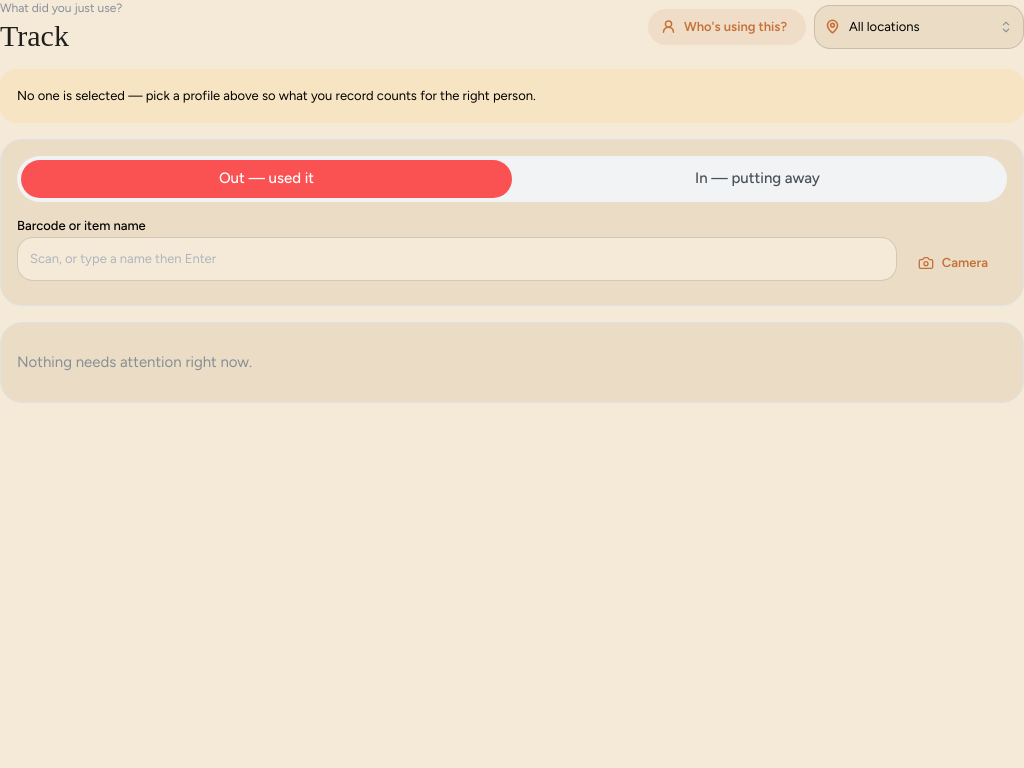
TrackPage scan lanes › won't check in until a location is chosen
This screenshot has width=1024, height=768.
Expected: the field labelled "Barcode or item name" is shown, [17, 237, 897, 281]
Click the radio button labelled "In — putting away" at (758, 178), box [695, 169, 820, 187]
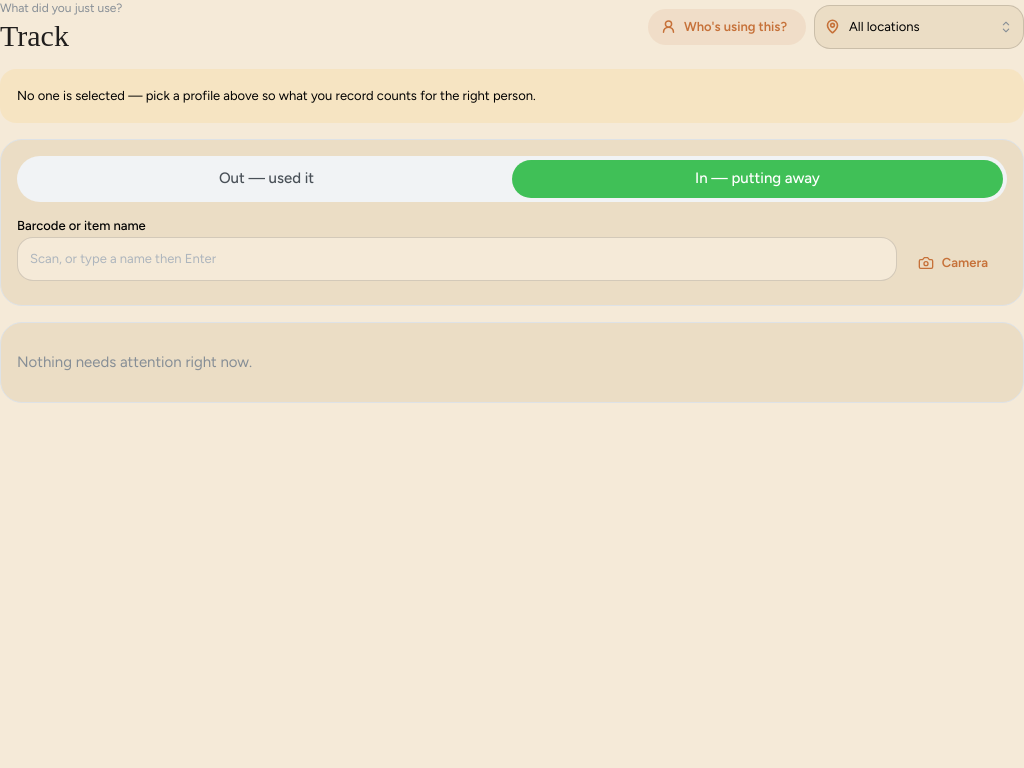
Type "0200000000001" into the field labelled "Barcode or item name" at (457, 259), box [17, 237, 897, 281]
Then press Enter
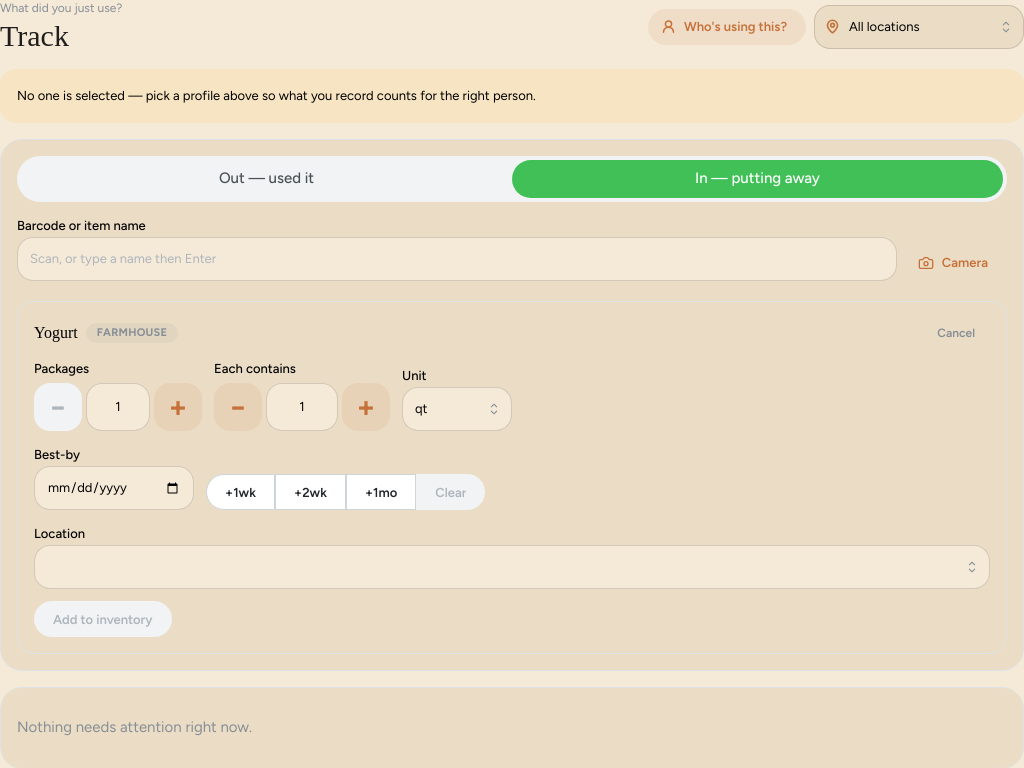
Now the button "Add to inventory" is disabled, box [34, 601, 172, 637]
